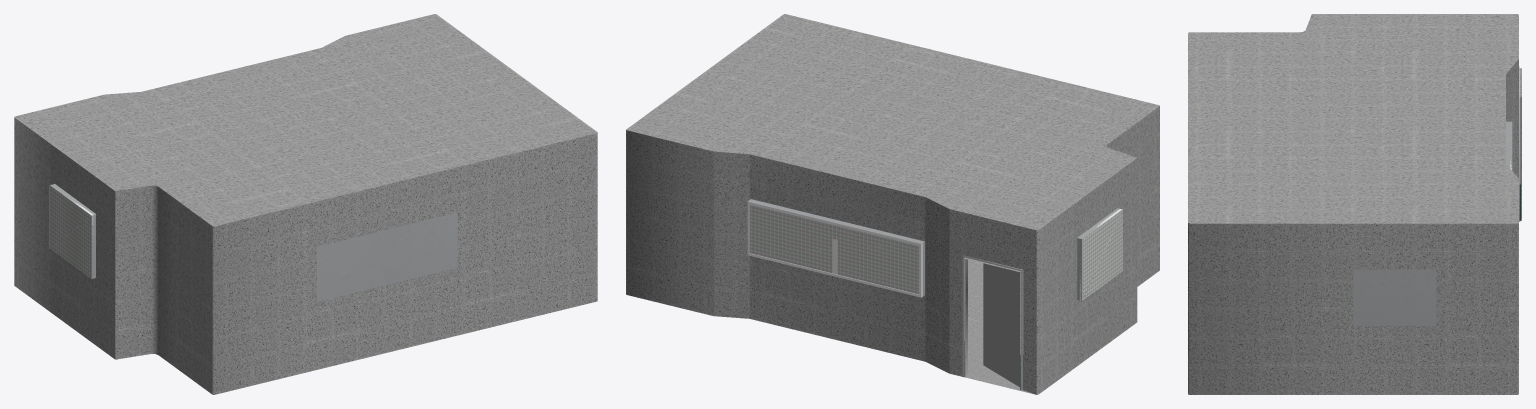
The model's file is Room_Doffing.FBX.
3 views of the same model, side by side, from view 1: azimuth 30°, elevation 25°; view 2: azimuth 150°, elevation 25°; view 3: azimuth 270°, elevation 25° (orthographic). The views are drawn at different scales.
Parts seen in each view (by area): view 1: Room_Doffing_Blocker, Room_Doffing, Room_Doffing_WindowMeshes; view 2: Room_Doffing_Blocker, Room_Doffing_WindowMeshes, Room_Doffing, Room_Doffing_Door; view 3: Room_Doffing_Blocker, Room_Doffing.
Part boxes in pixels (box(x1,y1,x2,y2)): Room_Doffing_Blocker: box(14, 14, 597, 394); Room_Doffing: box(49, 183, 457, 301); Room_Doffing_WindowMeshes: box(50, 185, 91, 278); Room_Doffing_Blocker: box(626, 14, 1159, 394); Room_Doffing_WindowMeshes: box(750, 204, 1122, 300); Room_Doffing: box(747, 198, 1122, 389); Room_Doffing_Door: box(962, 255, 1023, 390); Room_Doffing_Blocker: box(1188, 14, 1521, 394); Room_Doffing: box(1353, 97, 1520, 325).
Bounding box in the file's own units: 320 × 121 × 213.
